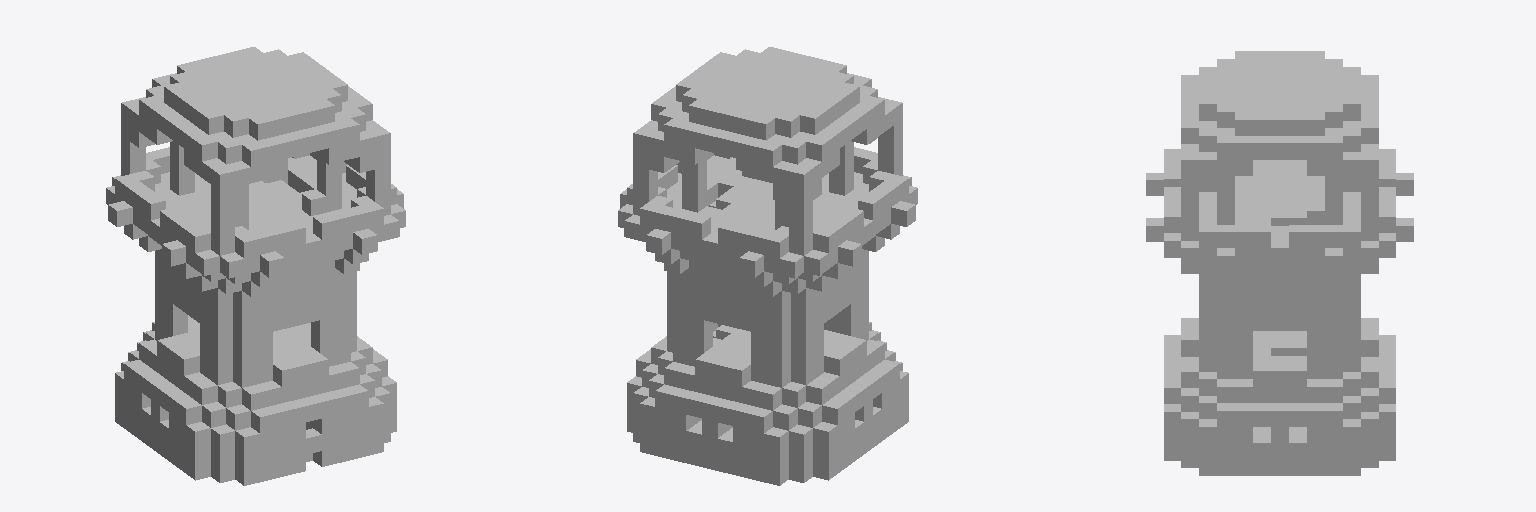
File: watchtower_overgrown.obj
3 renders of one model, left to right at view 1: azimuth 30°, elevation 25°; view 2: azimuth 150°, elevation 25°; view 3: azimuth 270°, elevation 25°, orthographic.
Parts seen in each view (by area): view 1: watchtower_overgrown; view 2: watchtower_overgrown; view 3: watchtower_overgrown.
Part boxes in pixels (left/top/right/bottom): watchtower_overgrown: left=106, top=47, right=405, bottom=485; watchtower_overgrown: left=618, top=47, right=917, bottom=485; watchtower_overgrown: left=1146, top=51, right=1413, bottom=475.
Size of the model in its own units: 15 by 21 by 15.